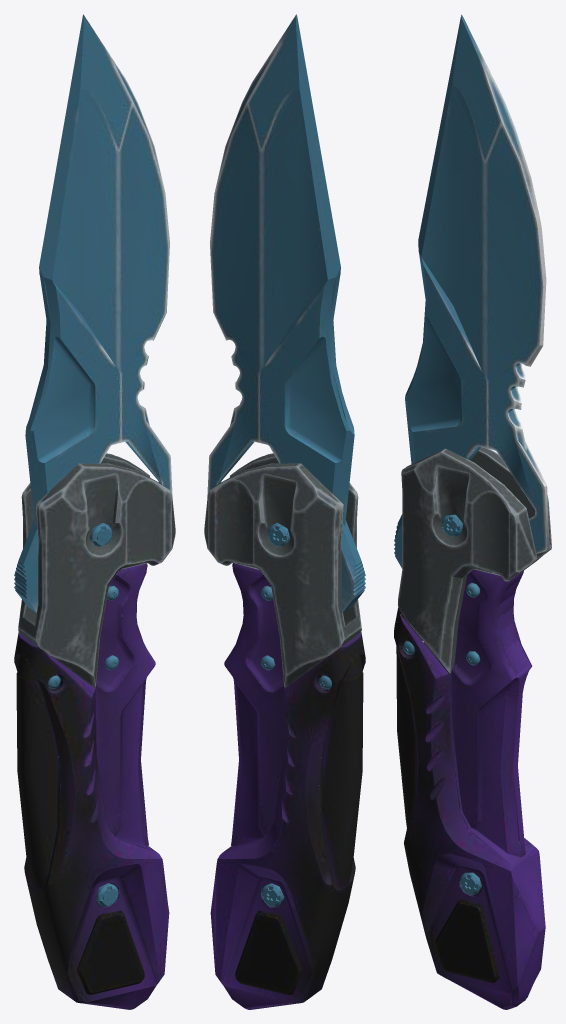
The model's file is w_knife.glb.
The picture shows the model from 3 angles, left to right: view 1: azimuth 30°, elevation 25°; view 2: azimuth 150°, elevation 25°; view 3: azimuth 330°, elevation 25°; orthographic projection. The views are drawn at different scales.
Parts seen in each view (by area): view 1: Solid_478__0; view 2: Solid_478__0; view 3: Solid_478__0.
Part boxes in pixels (x1=…): Solid_478__0: x1=14, y1=14, x2=175, y2=1009; Solid_478__0: x1=204, y1=14, x2=365, y2=1009; Solid_478__0: x1=394, y1=14, x2=551, y2=1009.
Bounding box in the file's own units: 0.0605 × 0.3801 × 0.0277.
Materials: 1 (1 with a texture image).
